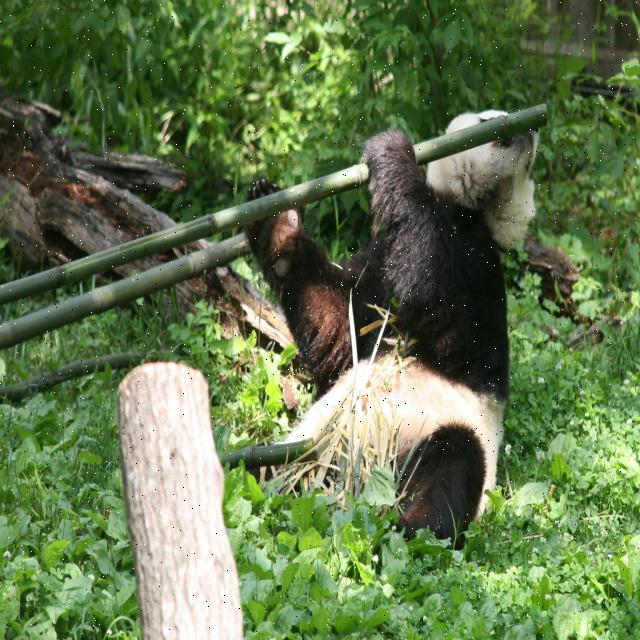panda: (236, 103, 534, 544)
